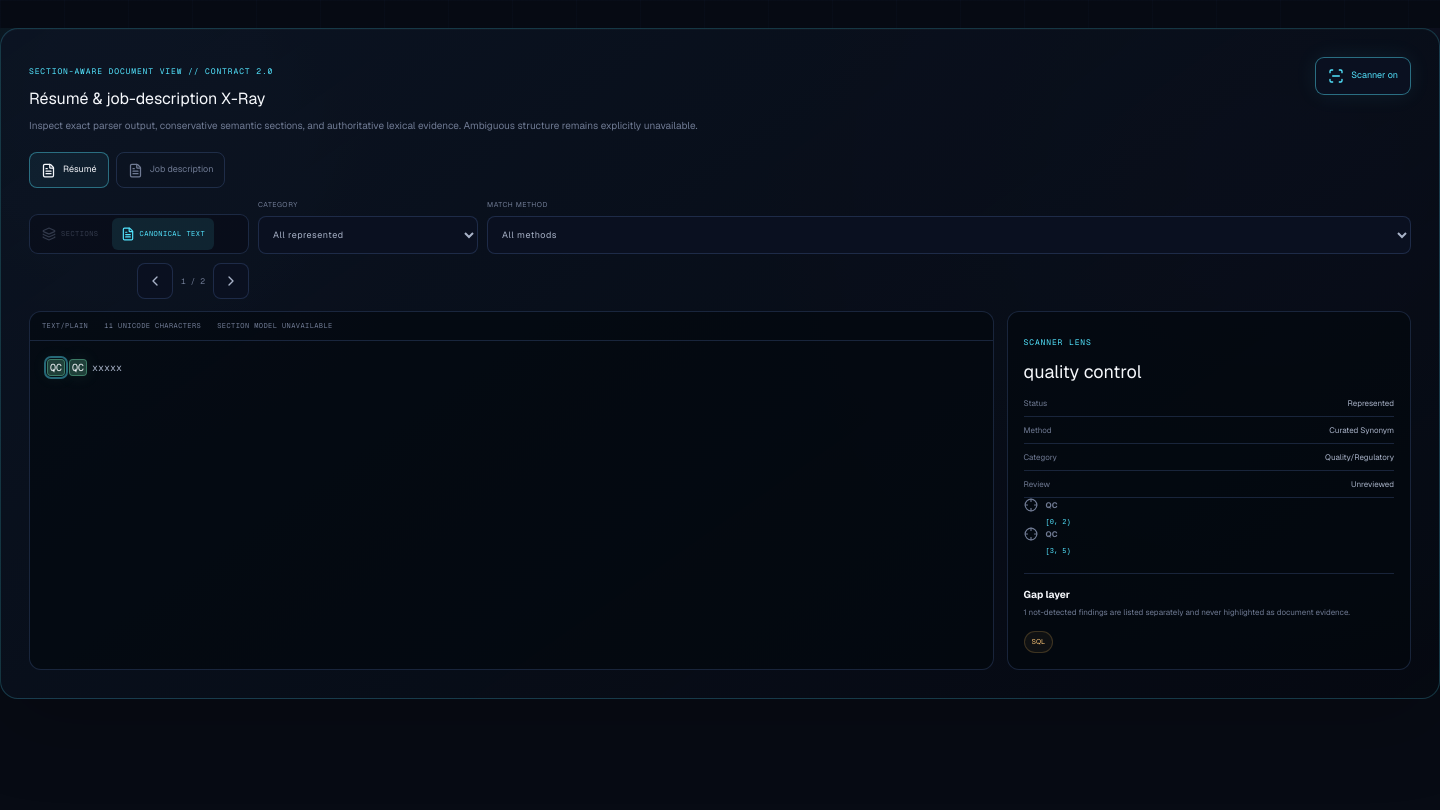
Test: DocumentXRay › navigates repeated occurrences of the same finding independently
Check: the text "1 / 2" is shown, box x1=181 y1=274 x2=205 y2=286
Click the button named "Next evidence" at (231, 280), box x1=213 y1=262 x2=249 y2=298
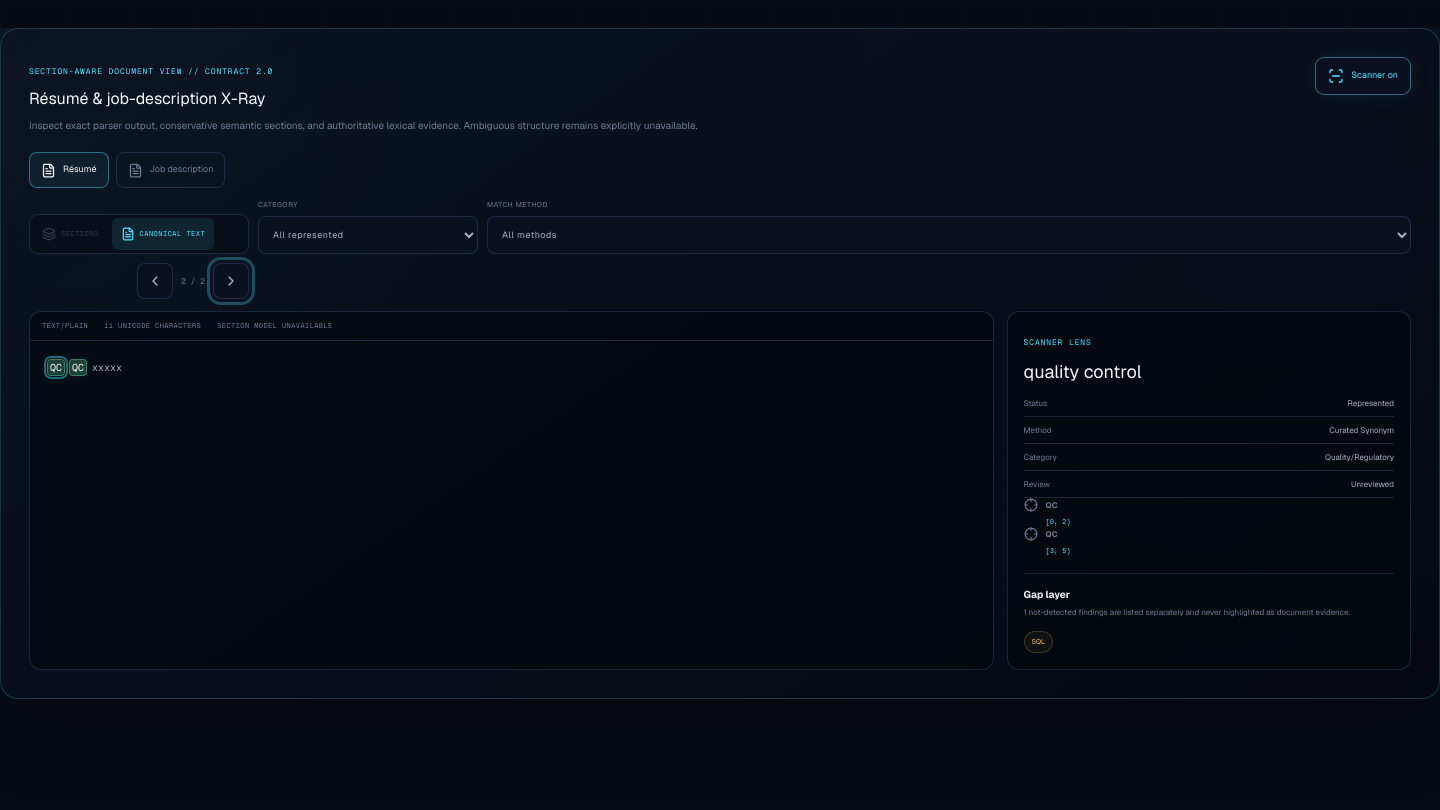
Check: the text "2 / 2" is shown, box x1=181 y1=274 x2=205 y2=286
